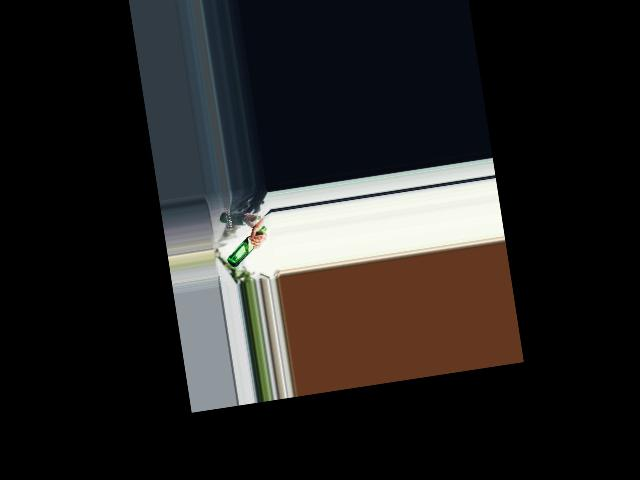beer: (222, 224, 271, 267)
